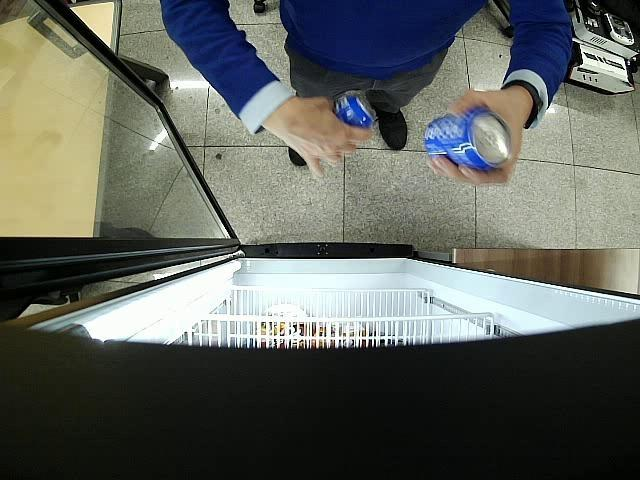13_pocariSweat: (424, 107, 512, 169), (334, 94, 376, 128)
